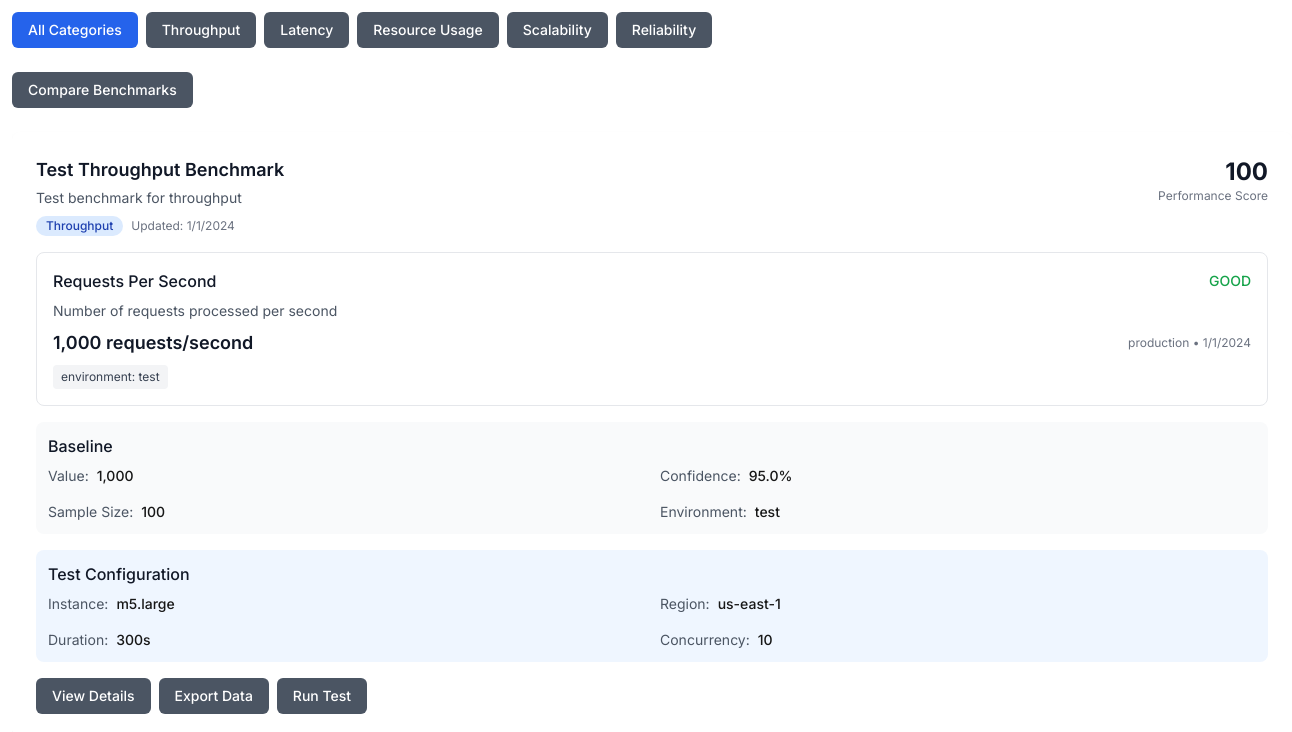
Scenario: PerformanceMetricsDisplay › toggles comparison mode
What coordinates should you click on to do the following:
click the button "Compare Benchmarks"
I would click on:
 (102, 90)
Its box is [12,72,193,108].
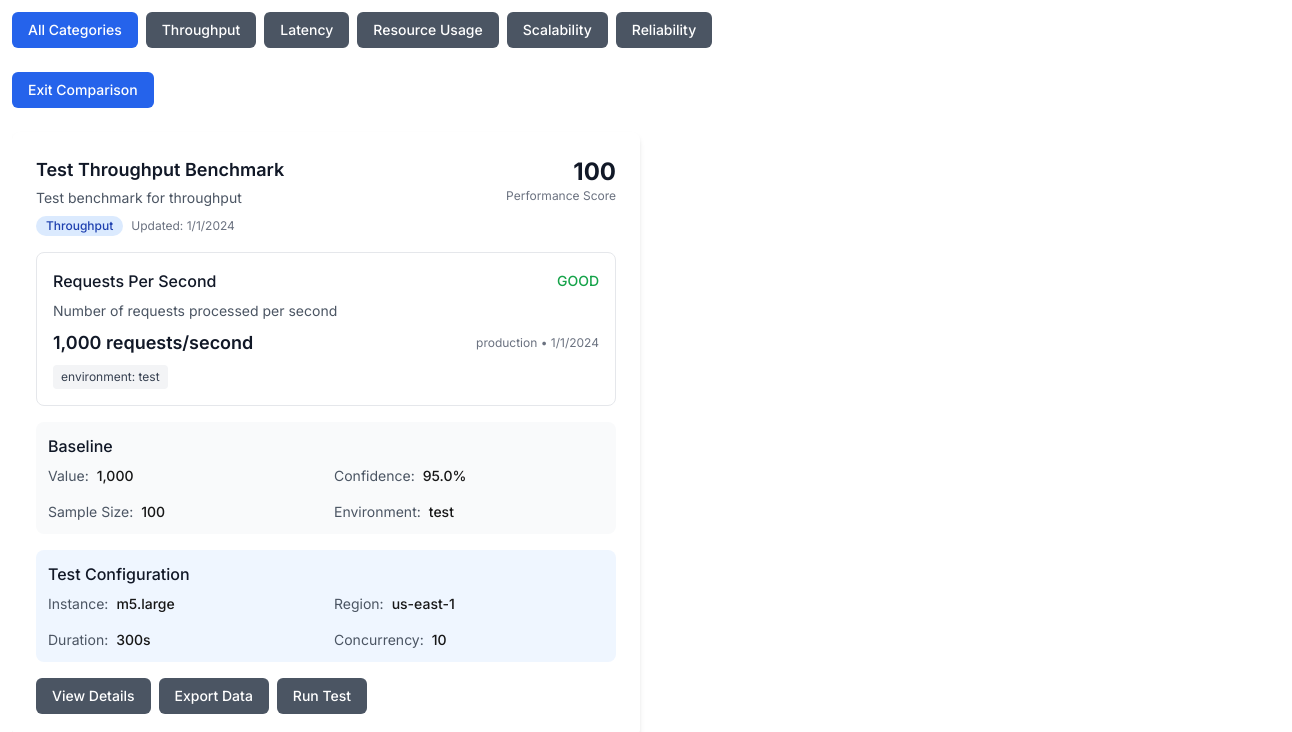
Expected: the button "Exit Comparison" is shown, [12,72,154,108]
